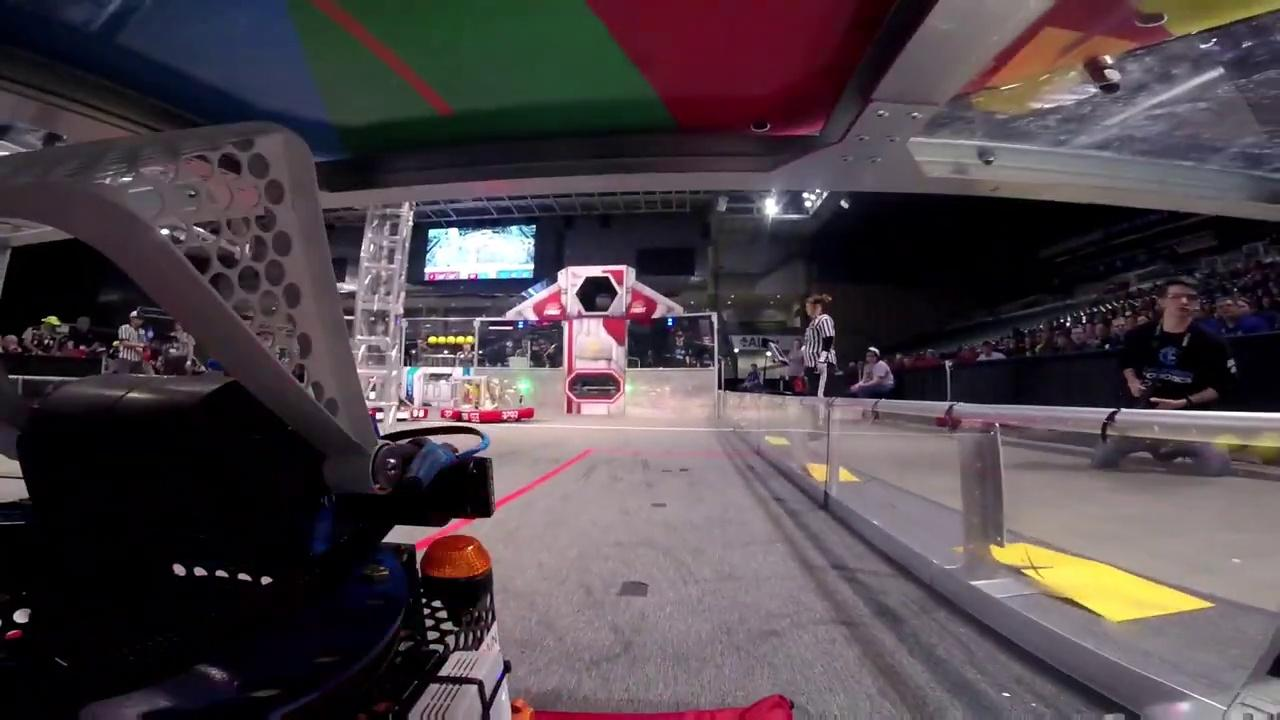robot: (437, 371, 541, 427)
